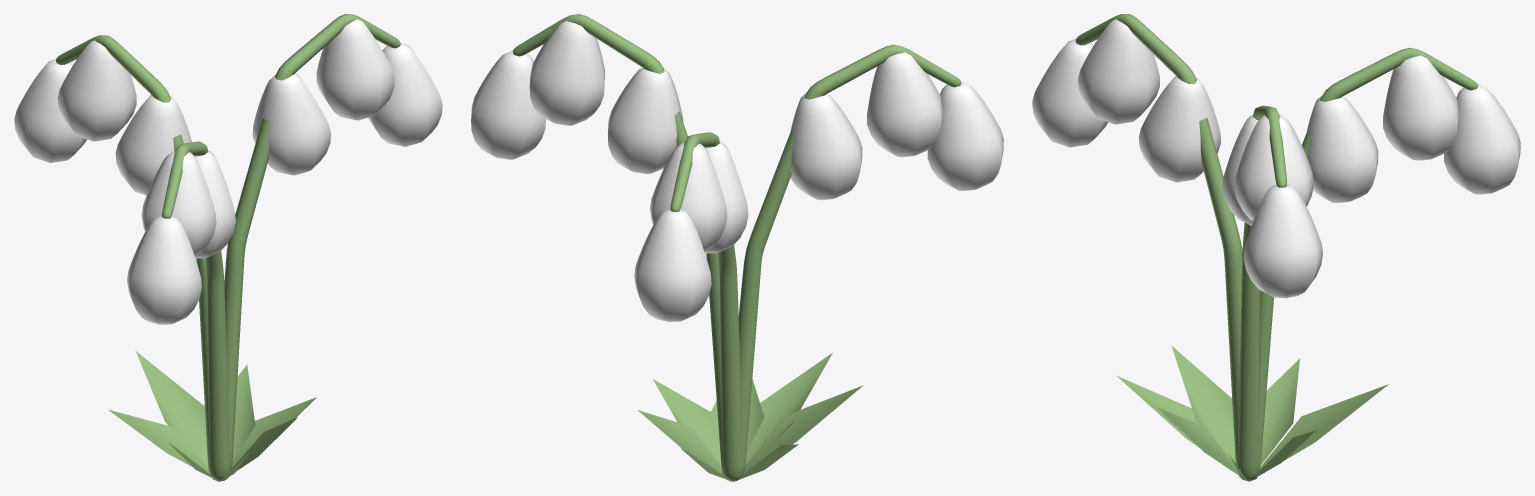
Rendered from plant.bell.glb.
3 renders of one model, left to right at view 1: azimuth 30°, elevation 25°; view 2: azimuth 150°, elevation 25°; view 3: azimuth 270°, elevation 25°, orthographic. The views are drawn at different scales.
Visible parts, largest first — view 1: Petal, Stem; view 2: Petal, Stem; view 3: Petal, Stem.
Boxes of the visible parts, x1=… form: Petal: x1=14, y1=19, x2=442, y2=324; Stem: x1=56, y1=14, x2=400, y2=481; Petal: x1=471, y1=21, x2=1003, y2=321; Stem: x1=513, y1=14, x2=961, y2=481; Petal: x1=1032, y1=19, x2=1520, y2=298; Stem: x1=1075, y1=14, x2=1477, y2=481.
Bounding box in the file's own units: 0.9268 × 0.926 × 0.926.
